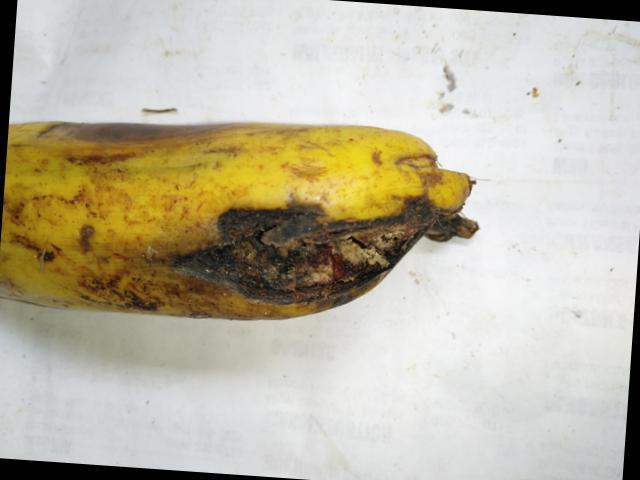ripe: (0, 96, 487, 340)
rotten: (171, 184, 485, 306), (40, 75, 239, 164)
